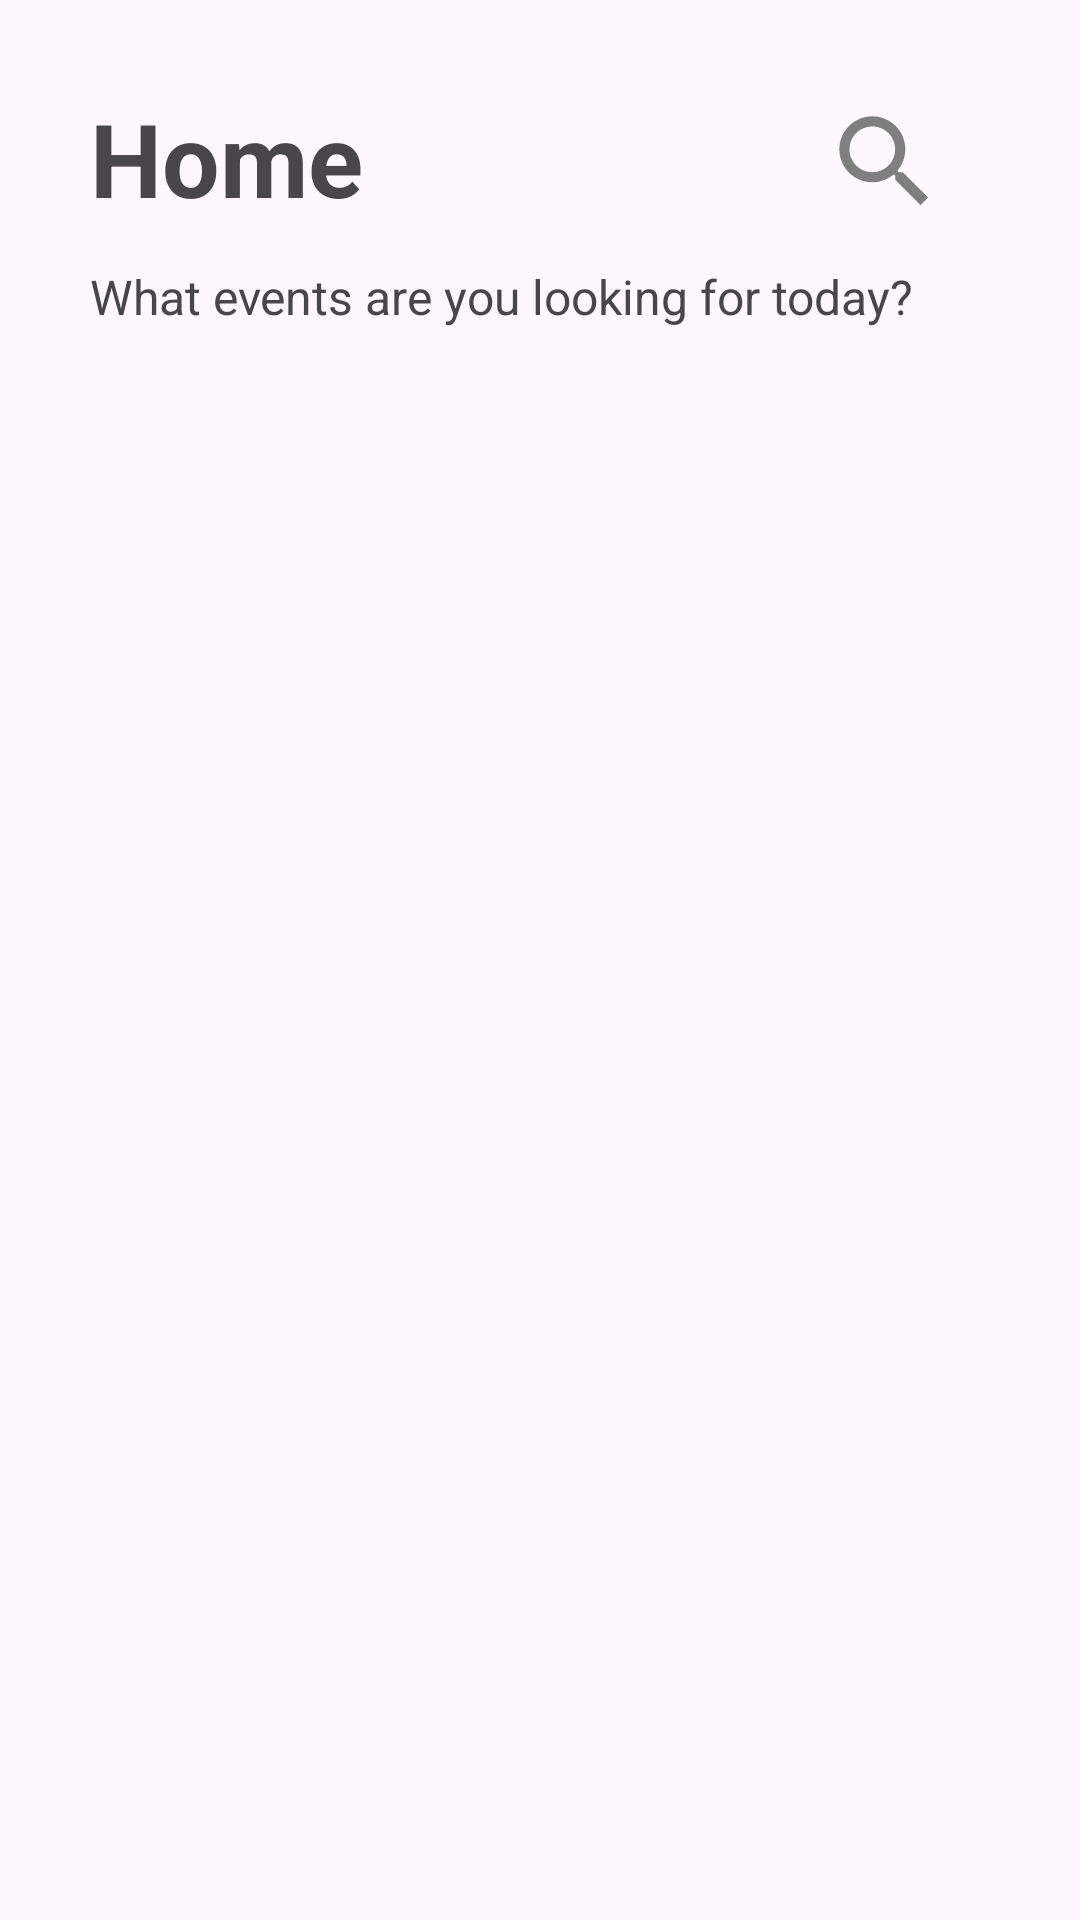

Icon click points for this 1080 × 1920 phone screenshot, format [x,y]:
Search: [883,160]
